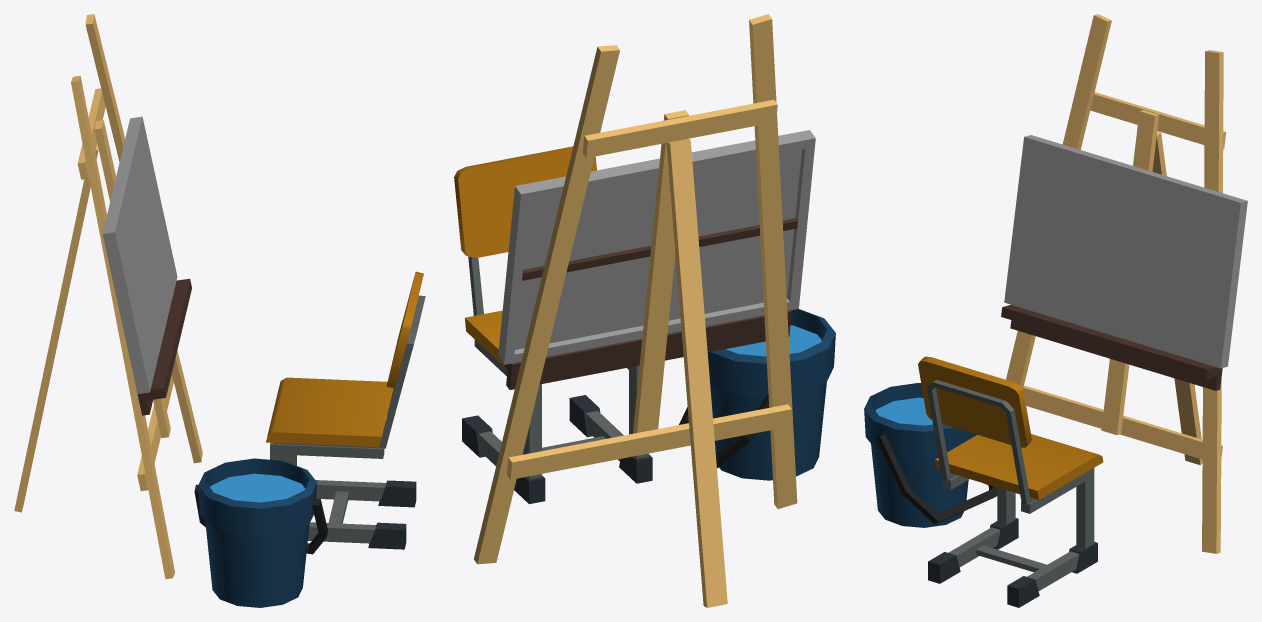
The model's file is khungtranh.fbx.
3 renders of one model, left to right at view 1: azimuth 30°, elevation 25°; view 2: azimuth 150°, elevation 25°; view 3: azimuth 270°, elevation 25°, orthographic. The views are drawn at different scales.
Visible parts, largest first — view 1: khungtranh; view 2: khungtranh; view 3: khungtranh.
Boxes of the visible parts, bbox=[...] form: khungtranh: bbox=[14, 14, 425, 607]; khungtranh: bbox=[454, 14, 835, 607]; khungtranh: bbox=[864, 14, 1247, 607].
Size of the model in its own units: 227 by 316 by 242.
